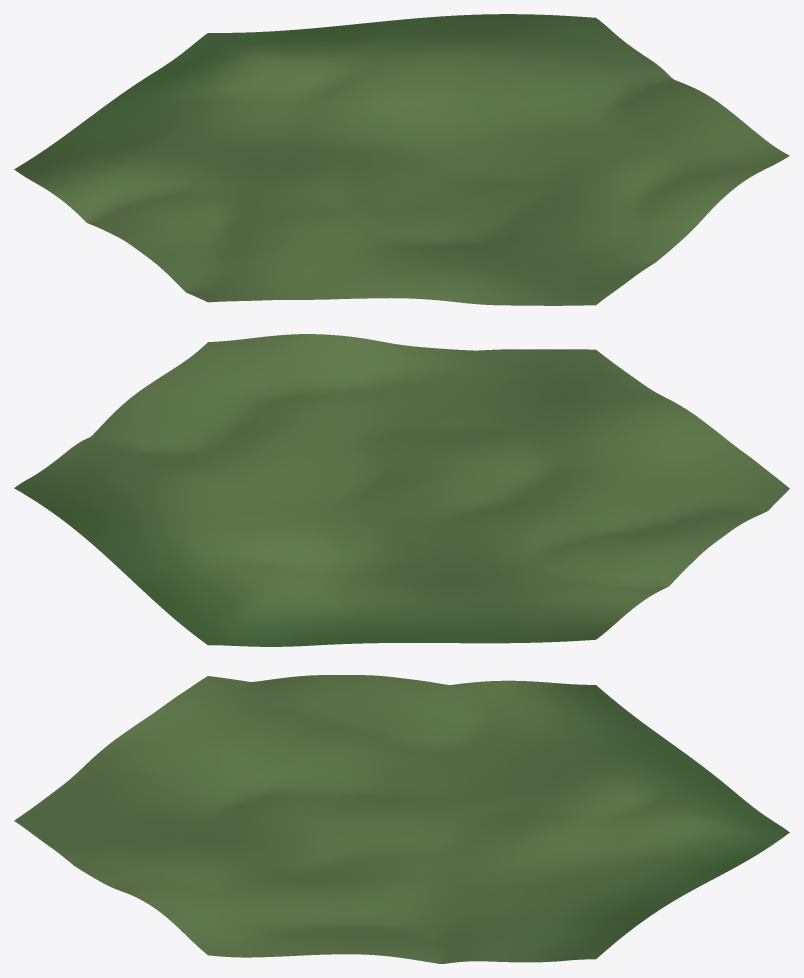
3 views of the same model, one above another, from view 1: azimuth 30°, elevation 25°; view 2: azimuth 150°, elevation 25°; view 3: azimuth 270°, elevation 25° (orthographic).
Parts seen in each view (by area): view 1: JS_-2_11; view 2: JS_-2_11; view 3: JS_-2_11.
Part boxes in pixels (box(x1,y1,x2,y2)): JS_-2_11: box(14, 14, 789, 305); JS_-2_11: box(14, 334, 789, 646); JS_-2_11: box(14, 675, 789, 963).
Bounding box in the file's own units: 4330 × 205 × 5000.
